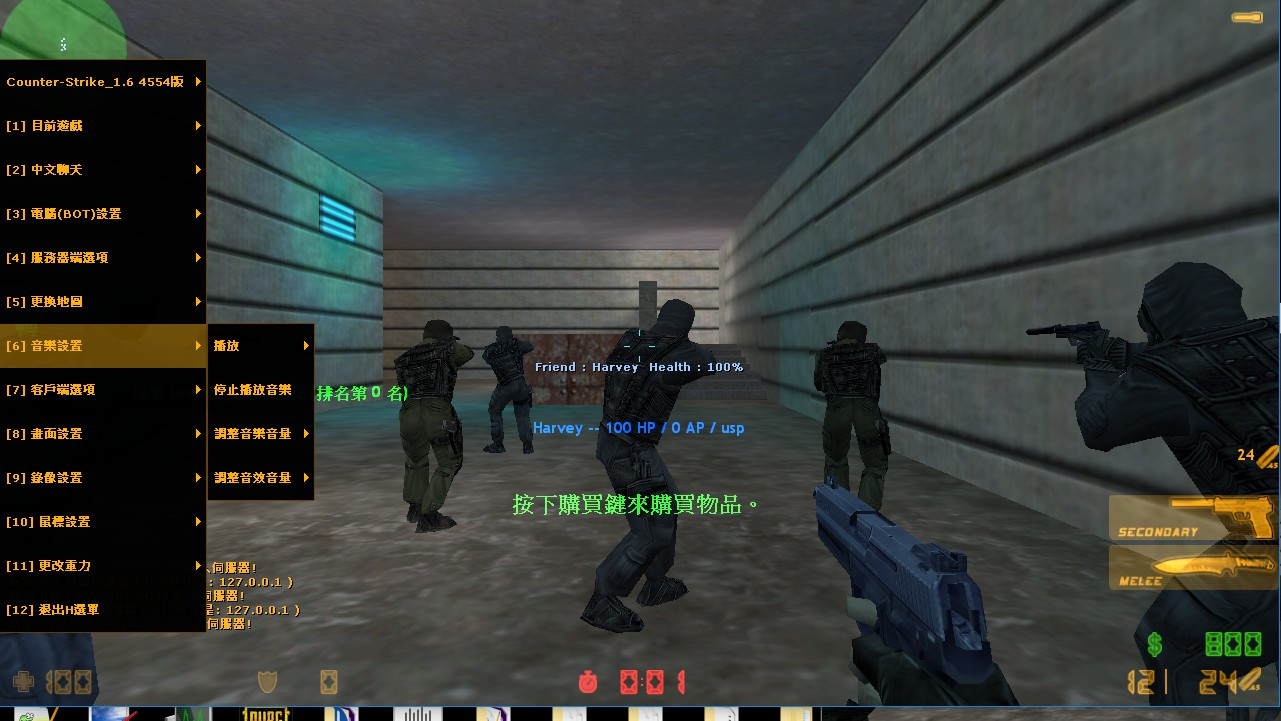person: (579, 297, 741, 639), (816, 311, 904, 502), (392, 318, 465, 545), (482, 320, 544, 454)
